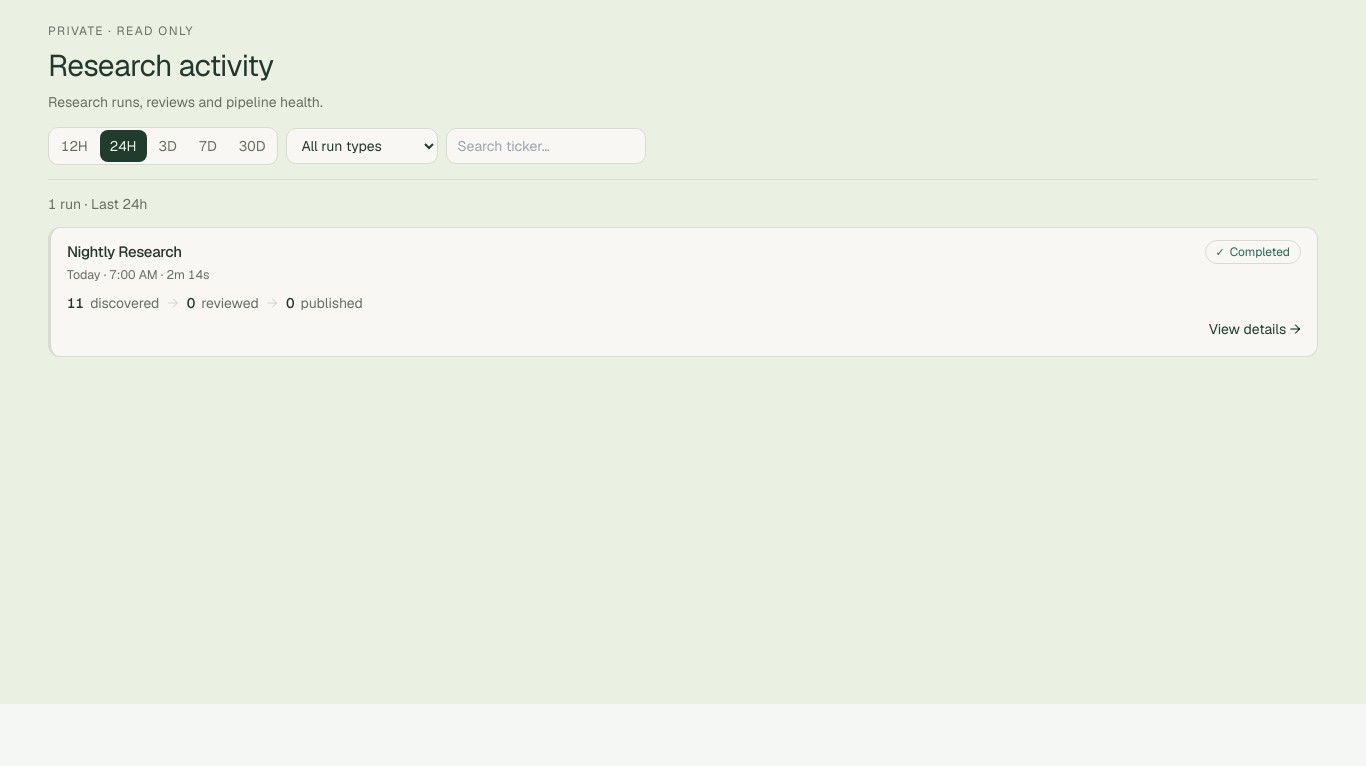
research activity page › finds candidates inside collapsed runs, including beyond a truncated group
The image size is (1366, 766).
Click the button "View details →". click: (1251, 330)
box: [1201,316,1301,344]
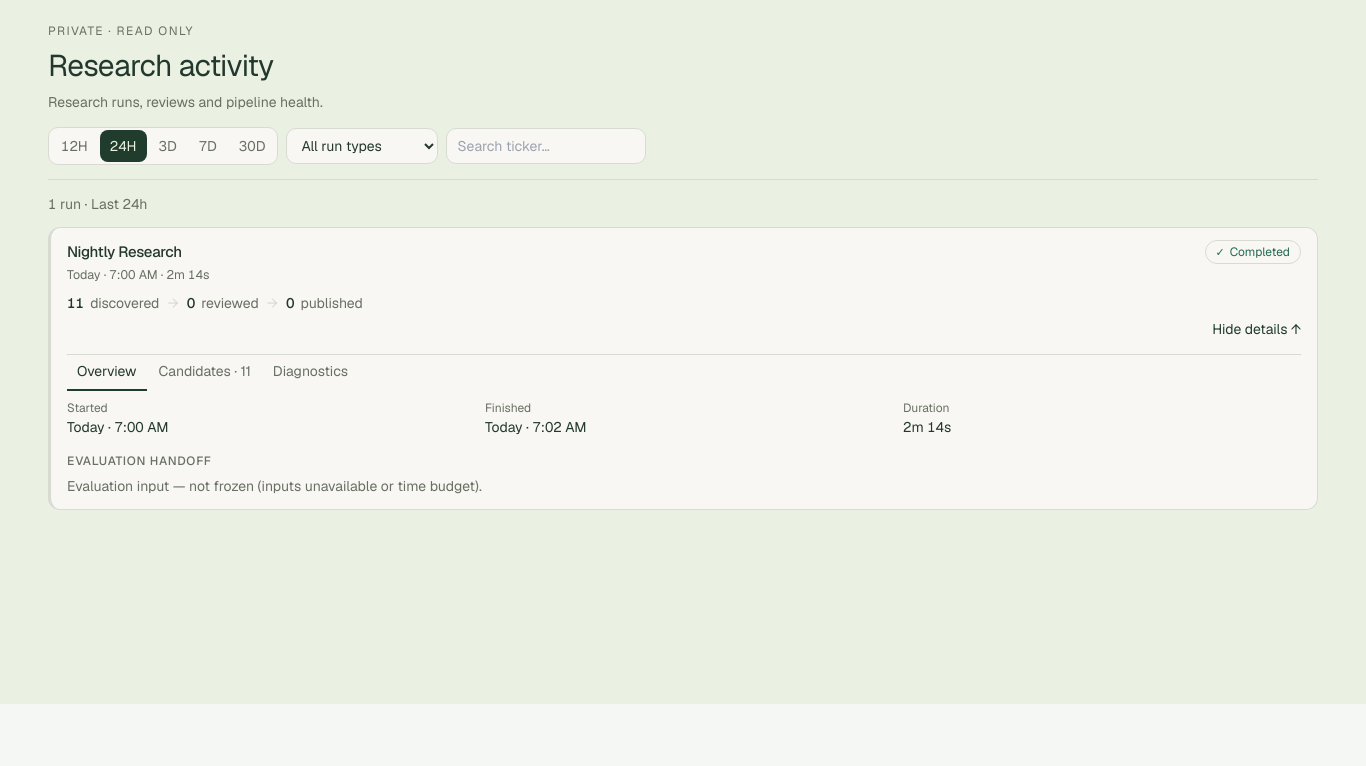
Click the tab "Candidates · 11". click: (205, 373)
box: [149,355,261,391]
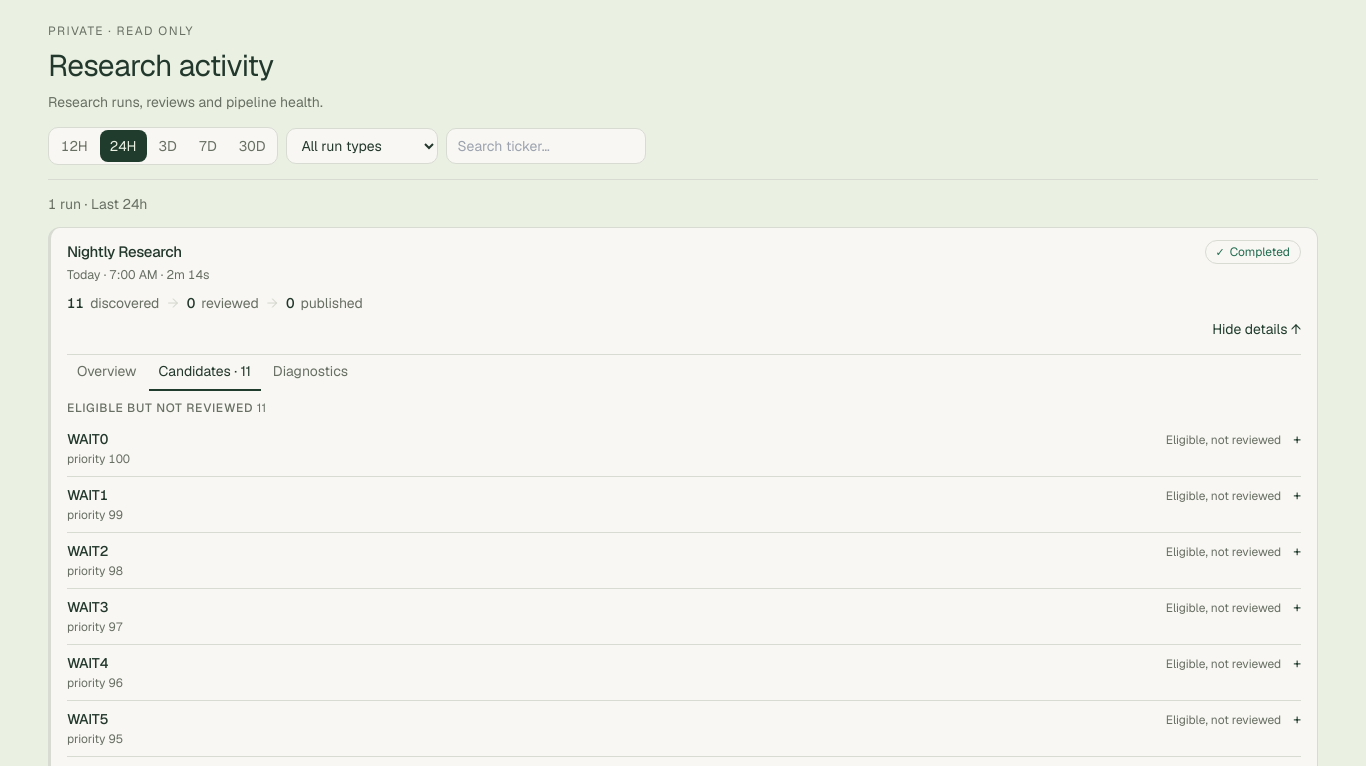
Expected: the text "WAIT10" is not shown
Type " wait10 " into the search field labelled "Search ticker". click: (546, 146)
box: [446,128,646,164]
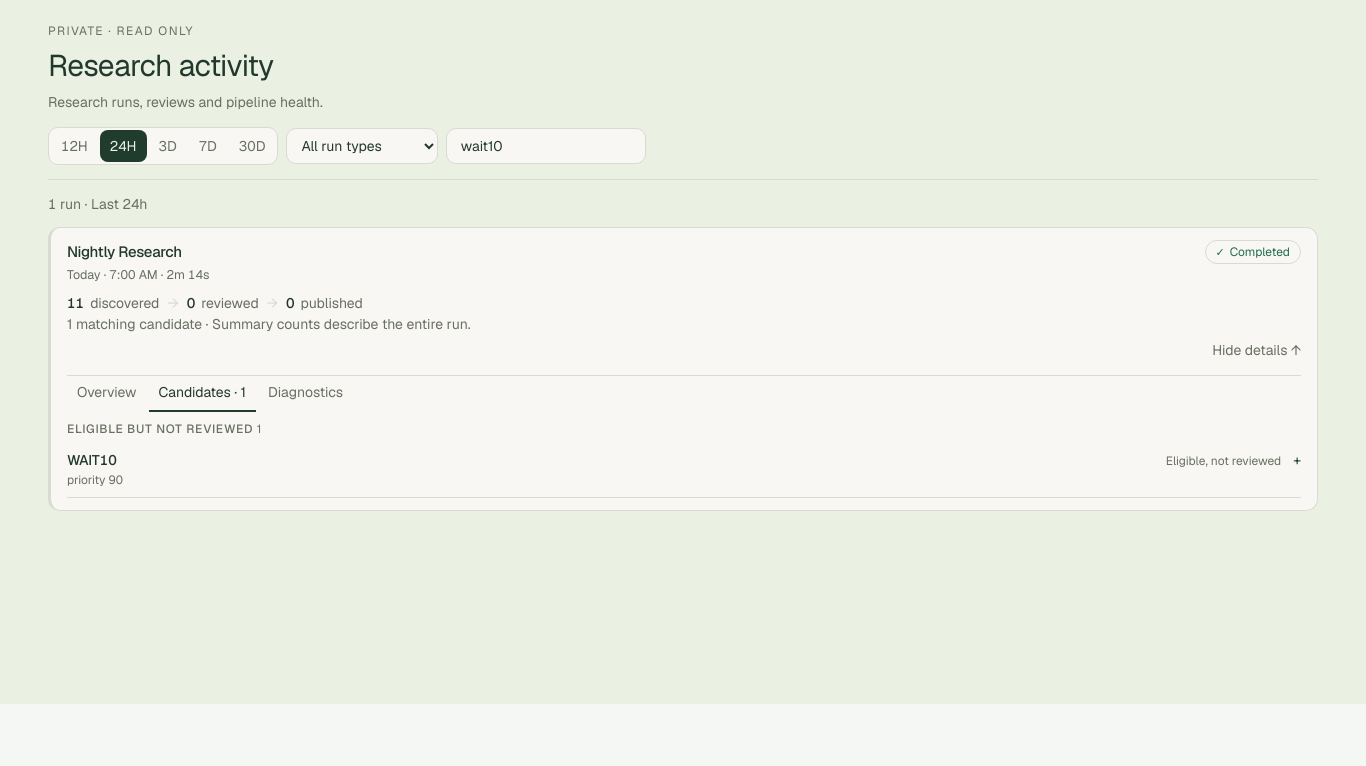
Expected: the element named "Run summary" shows "11 discovered", [67,294,363,312]
Now the text "WAIT10" is shown, box [67,451,117,469]
Now the heading "WAIT0" is gone
